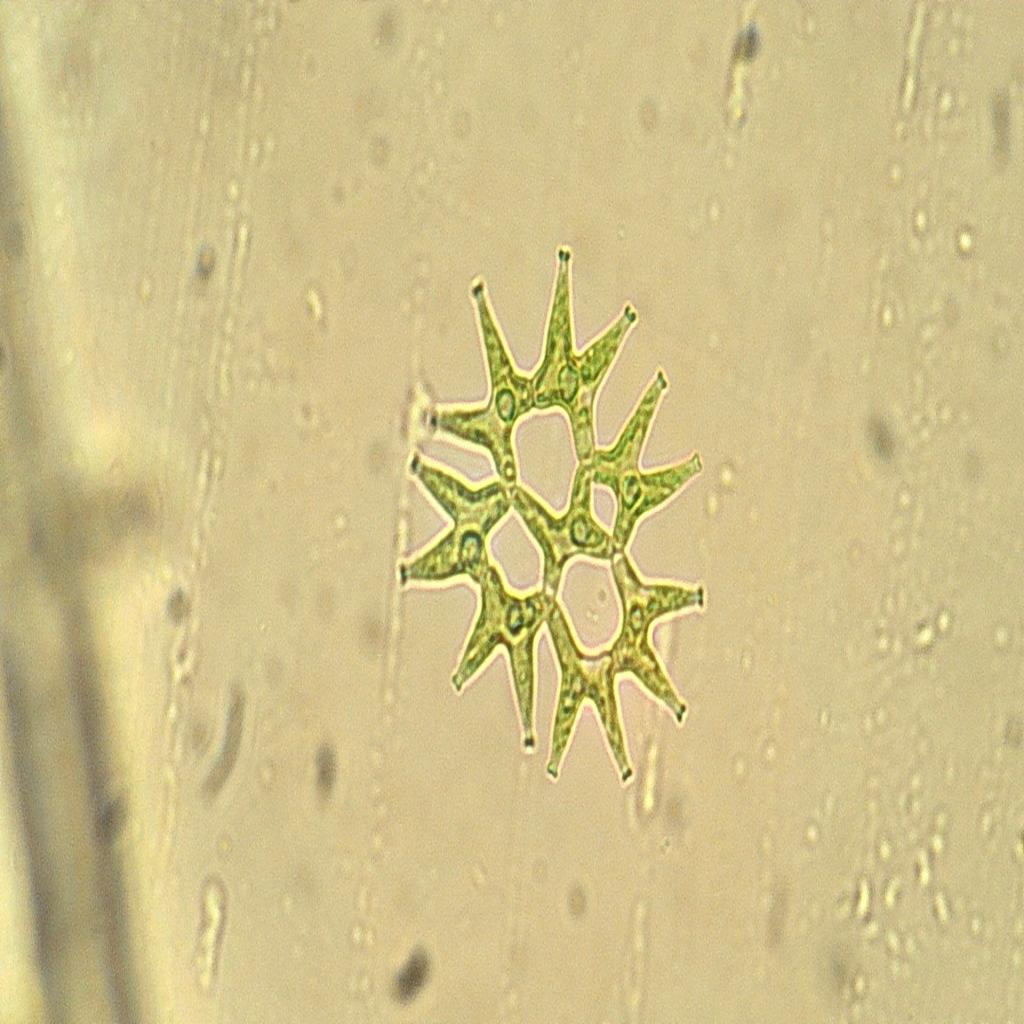Pediastrum_75T: (390, 237, 718, 792)
